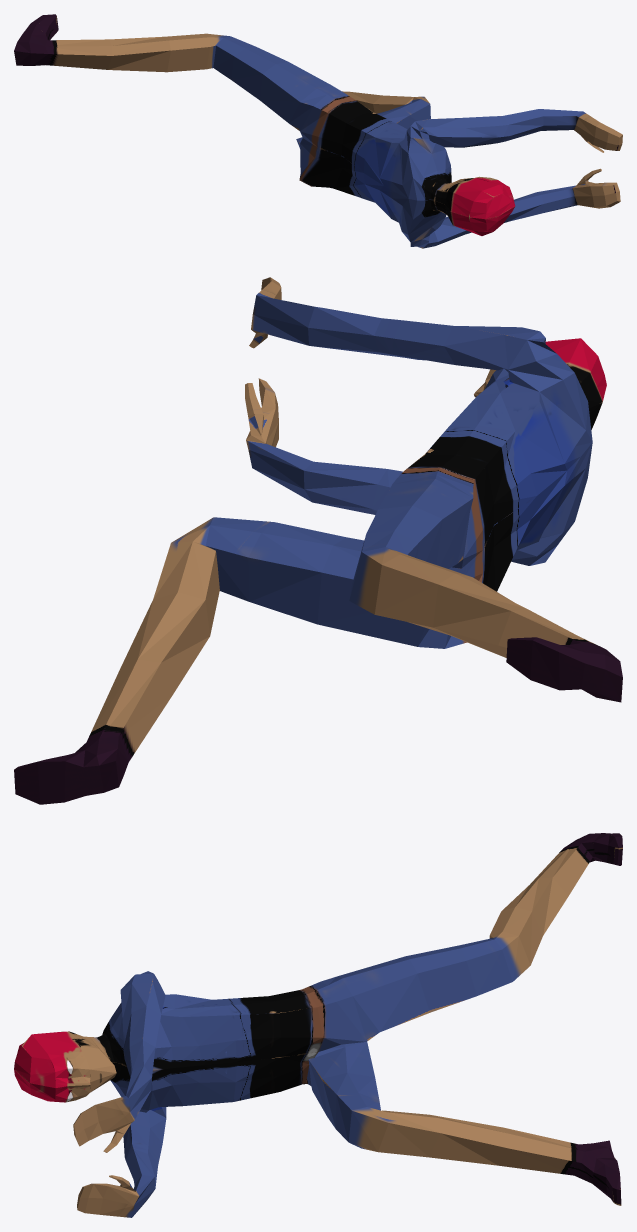
The model's file is mirrorman_000010.obj.
3 views of the same model, one above another, from view 1: azimuth 30°, elevation 25°; view 2: azimuth 150°, elevation 25°; view 3: azimuth 270°, elevation 25° (orthographic). The views are drawn at different scales.
Parts seen in each view (by area): view 1: mirrorman_Cube.001_Material.001; view 2: mirrorman_Cube.001_Material.001; view 3: mirrorman_Cube.001_Material.001.
Part boxes in pixels (x1,y1,x2,y2): mirrorman_Cube.001_Material.001: (14, 14, 622, 248); mirrorman_Cube.001_Material.001: (14, 277, 622, 804); mirrorman_Cube.001_Material.001: (14, 833, 622, 1217).
Bounding box in the file's own units: 1.46 × 0.5399 × 1.5.
